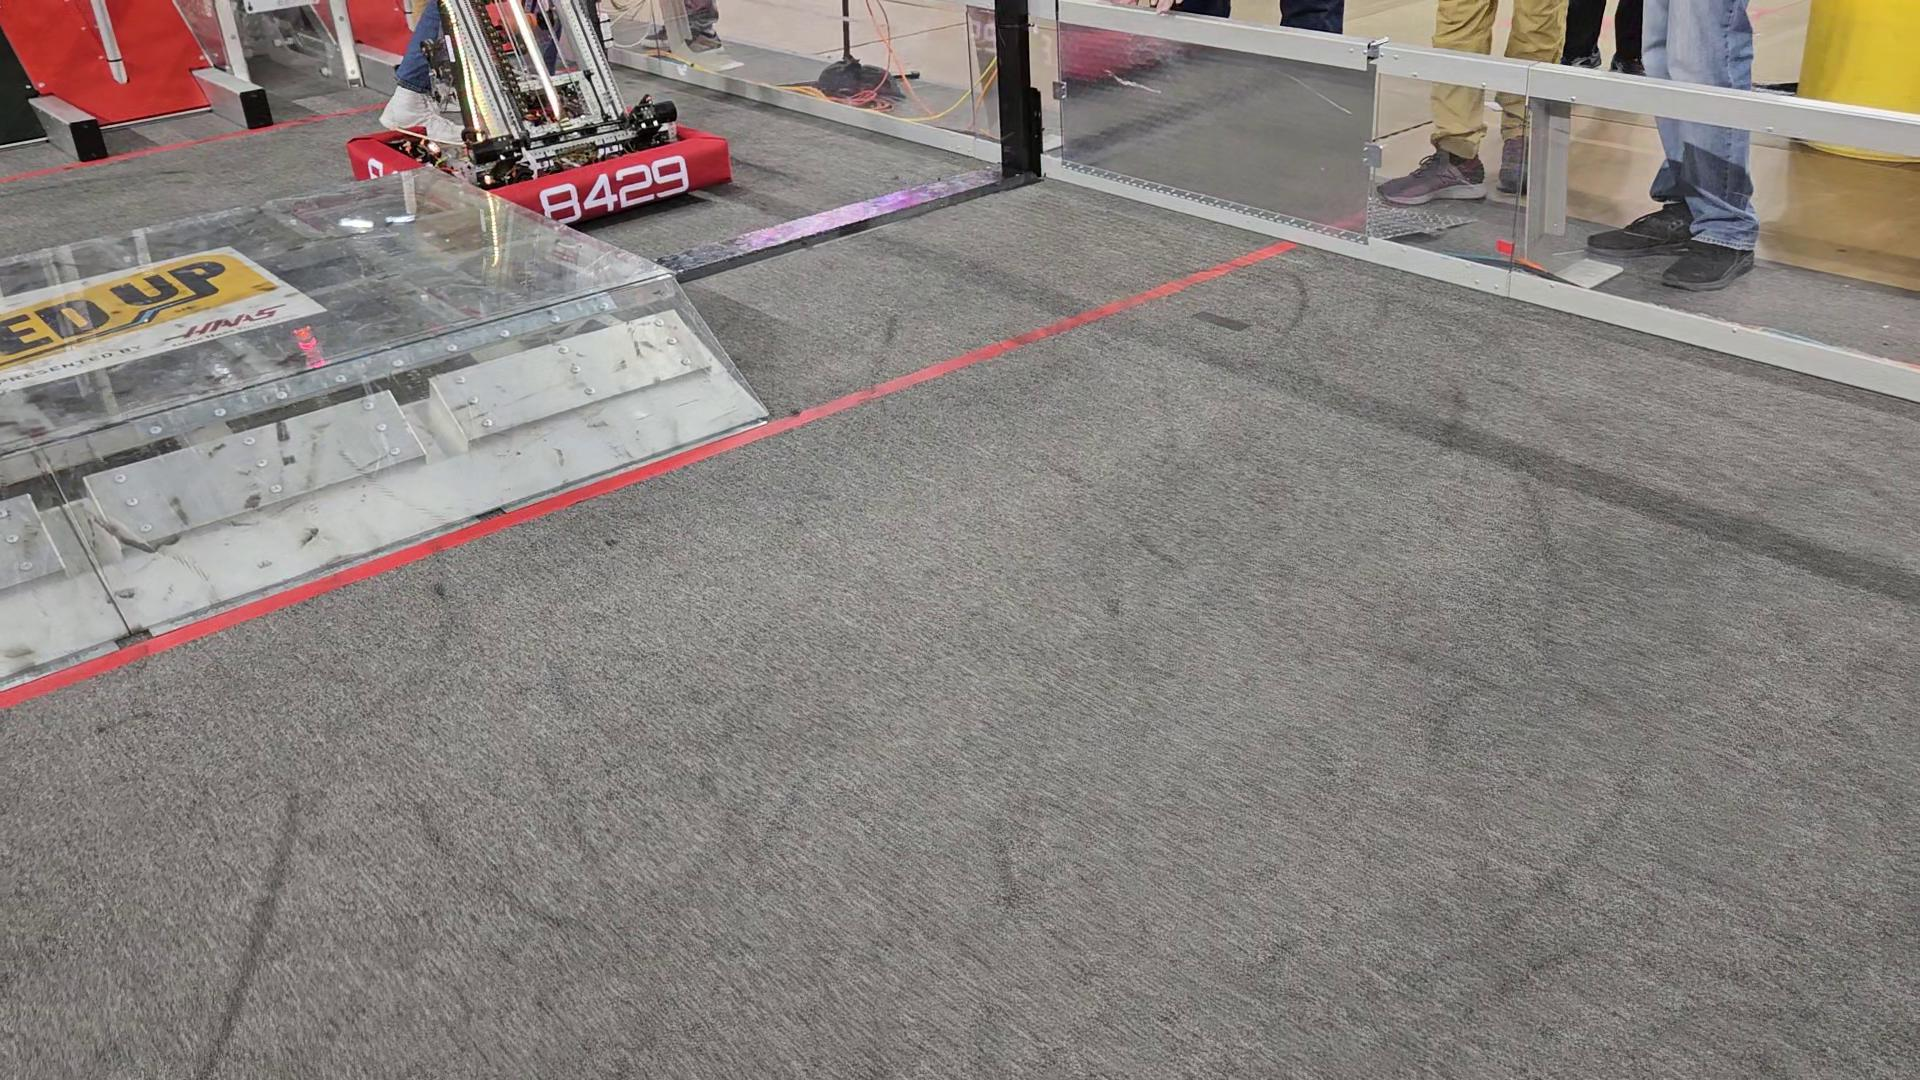robot: (344, 0, 733, 225)
